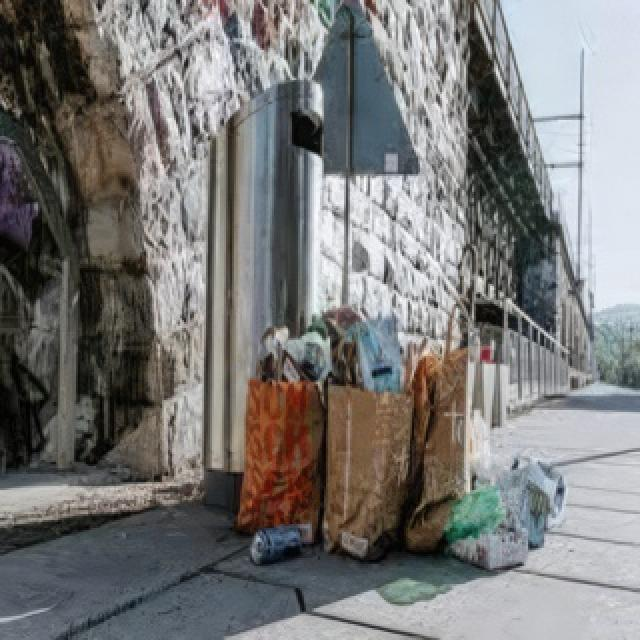high trash: (236, 309, 565, 570)
